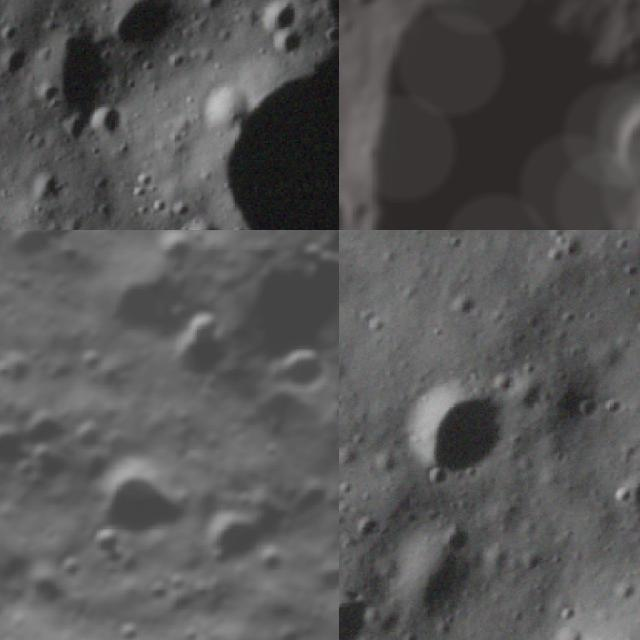crater: (188, 24, 339, 230), (377, 335, 542, 499), (365, 505, 508, 640), (86, 243, 204, 362), (87, 453, 194, 561), (150, 298, 254, 401), (90, 0, 187, 64), (258, 332, 336, 409), (203, 509, 270, 575), (0, 230, 82, 280), (339, 573, 394, 640), (13, 397, 74, 457), (601, 93, 640, 185), (85, 90, 141, 145), (142, 230, 202, 276), (282, 230, 333, 278), (302, 544, 339, 607), (0, 424, 35, 479), (70, 416, 114, 459), (269, 19, 312, 62), (171, 203, 237, 230), (0, 346, 38, 392), (254, 0, 303, 35), (56, 550, 91, 586), (265, 614, 311, 640), (160, 566, 194, 600), (256, 545, 290, 579), (74, 343, 107, 376), (225, 483, 257, 516), (141, 579, 173, 611), (256, 440, 283, 467), (327, 418, 339, 475), (114, 620, 146, 640), (178, 621, 209, 640)
